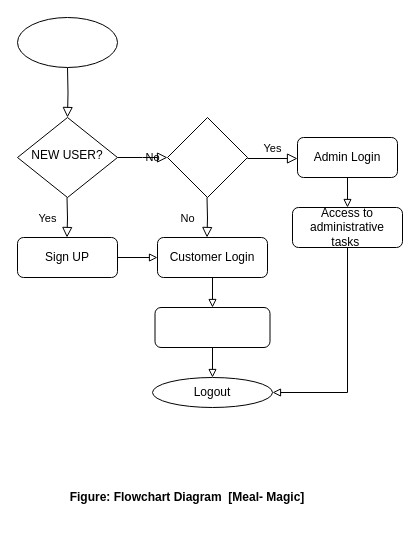
The diagram is 420 pixels wide and 535 high, and some of its shapes have lost their labels. The shapes that lost their labels are listed below. From the top down, each one's centre as x and y in pixels, then its label:
(67,42): Welcome to MEAL-MAGIC
(207,157): Admin?
(212,327): Access to customer Interface
